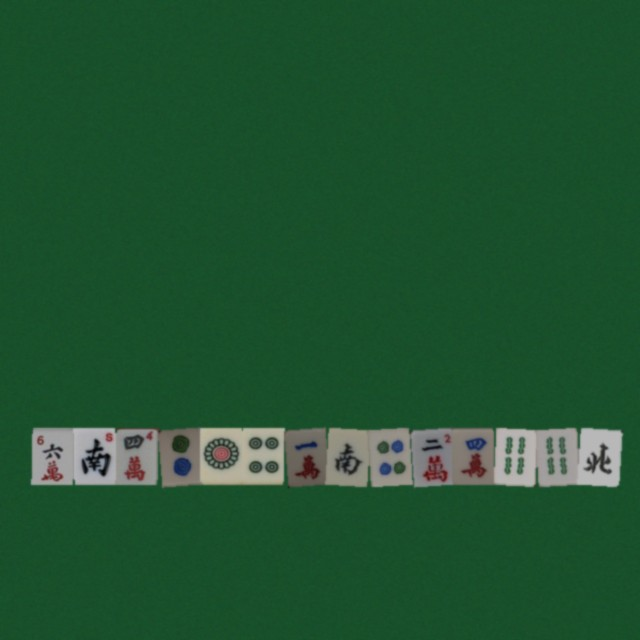tile: (31, 427, 73, 484), (73, 427, 115, 484), (115, 427, 157, 484), (157, 427, 199, 484), (199, 427, 241, 484), (241, 427, 283, 484), (283, 427, 325, 484), (325, 427, 367, 484), (367, 427, 409, 484), (409, 427, 451, 484), (451, 427, 493, 484), (493, 427, 535, 484), (535, 427, 577, 484), (577, 427, 619, 484)
